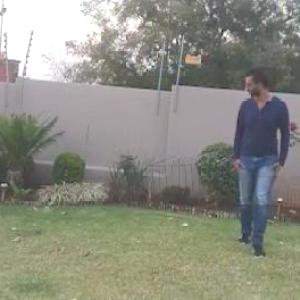follow: (226, 59, 286, 258)
